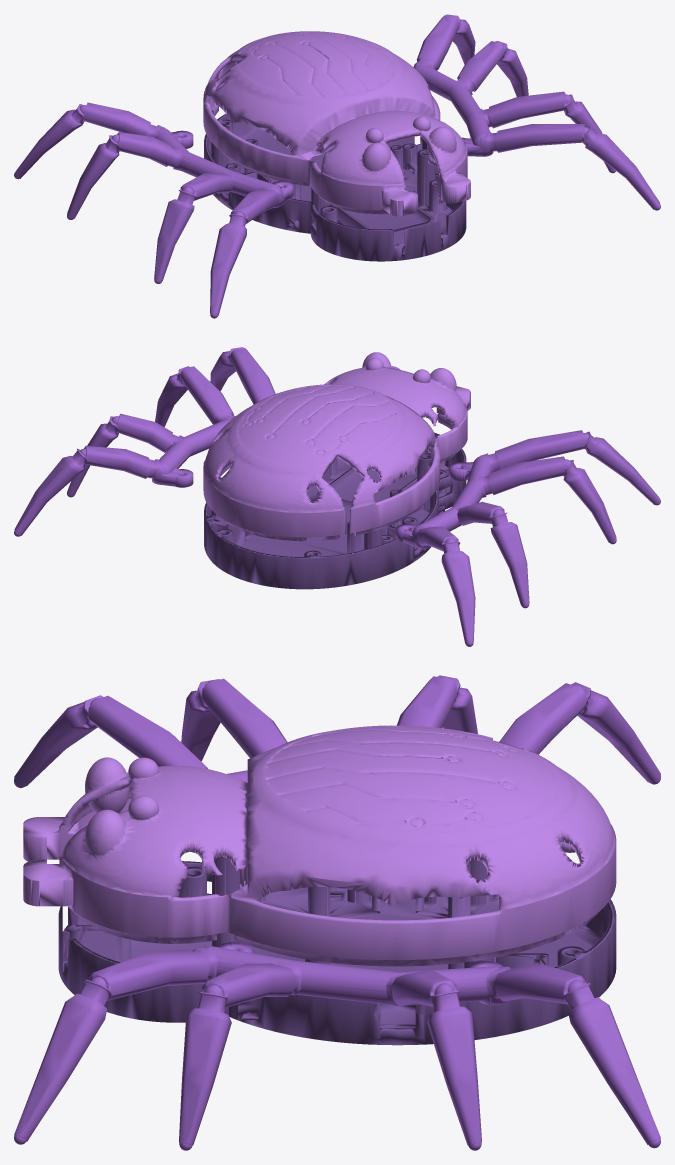
Rendered from artrobots-robot-kaian.glb.
3 renders of one model, top to bottom at view 1: azimuth 30°, elevation 25°; view 2: azimuth 150°, elevation 25°; view 3: azimuth 270°, elevation 25°, orthographic. The views are drawn at different scales.
Parts seen in each view (by area): view 1: shell, legs-left, base, legs-right; view 2: shell, legs-left, base, legs-right; view 3: shell, legs-right, base, legs-left.
Boxes of the visible parts, x1,y1,x2,y2 form: shell: (203,31,470,216); legs-left: (14,102,293,318); base: (204,113,466,261); legs-right: (413,14,660,210); shell: (203,352,470,541); legs-left: (396,430,660,646); base: (204,432,466,589); legs-right: (14,347,275,536); shell: (23,725,616,966); legs-right: (14,942,660,1150); base: (58,857,616,1045); legs-left: (14,675,660,788).
Bounding box in the file's own units: 5.97 × 1.58 × 4.39.
